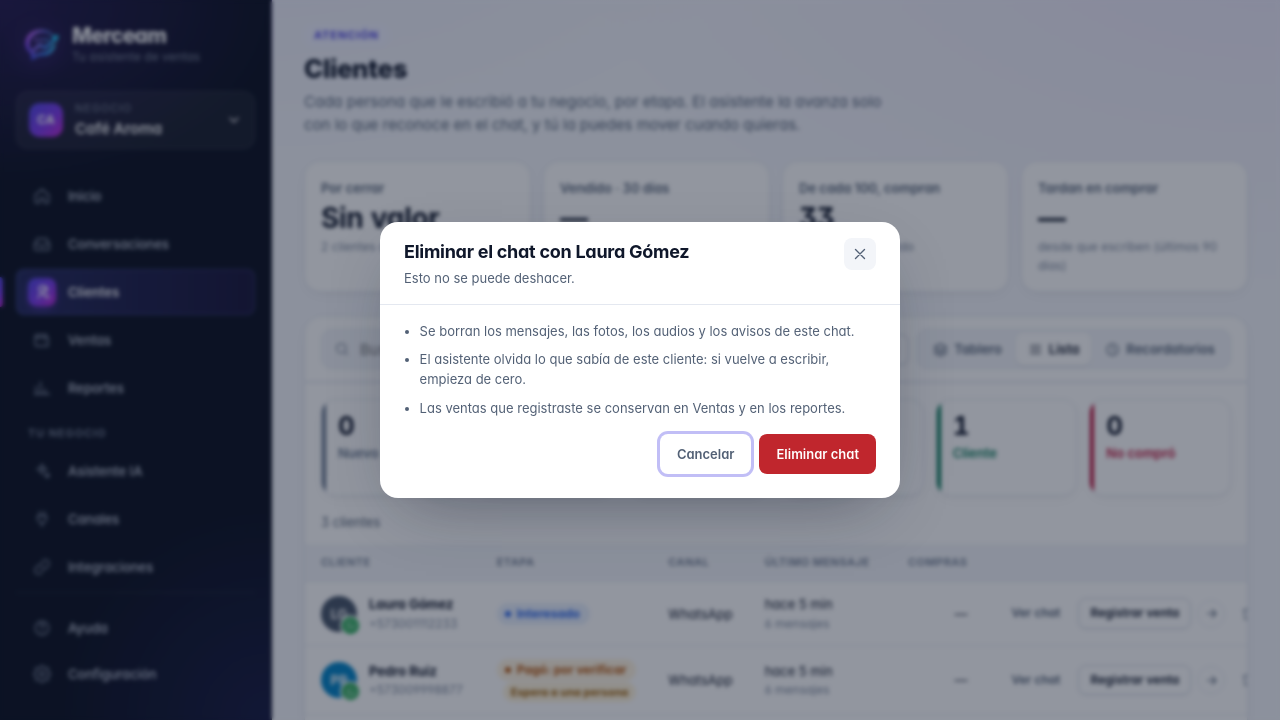
Test: Clientes › elimina un cliente con su chat después de confirmar
The width and height of the screenshot is (1280, 720).
Earlier steps of the test are not shown.
Click the button "Eliminar chat" at (818, 454), box [760,434,876,474]
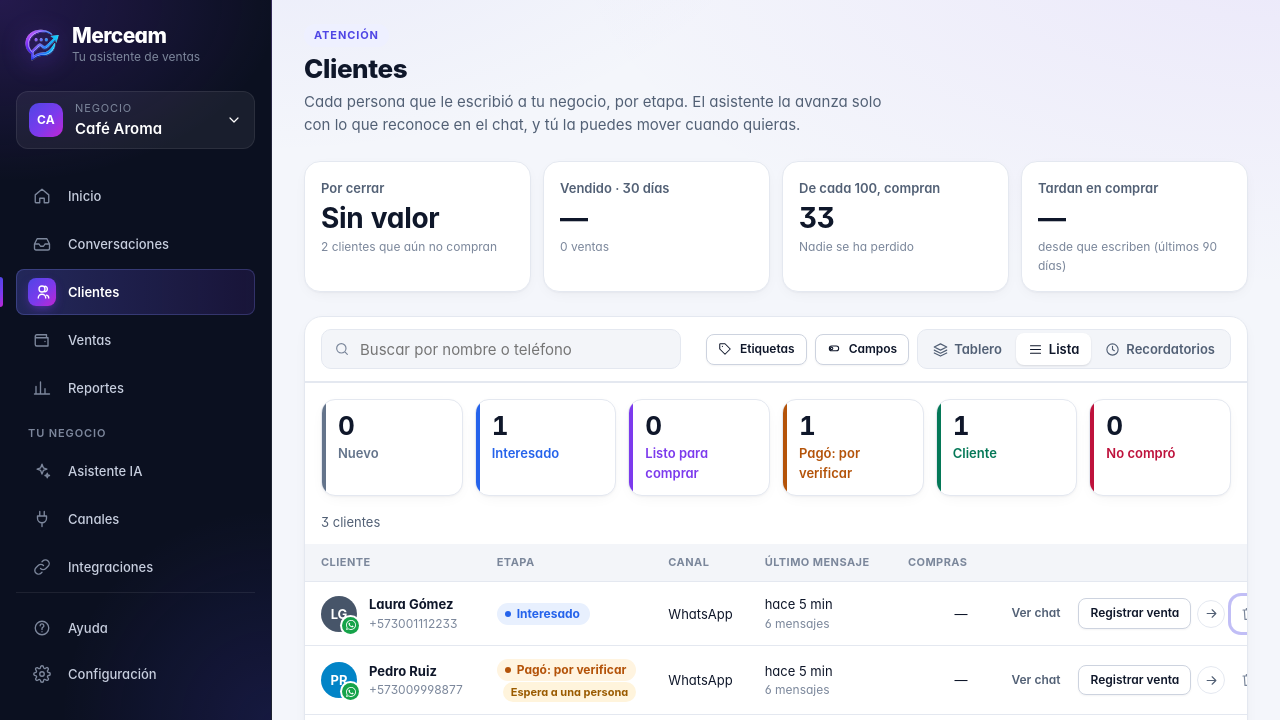
Expected: the dialog is gone
